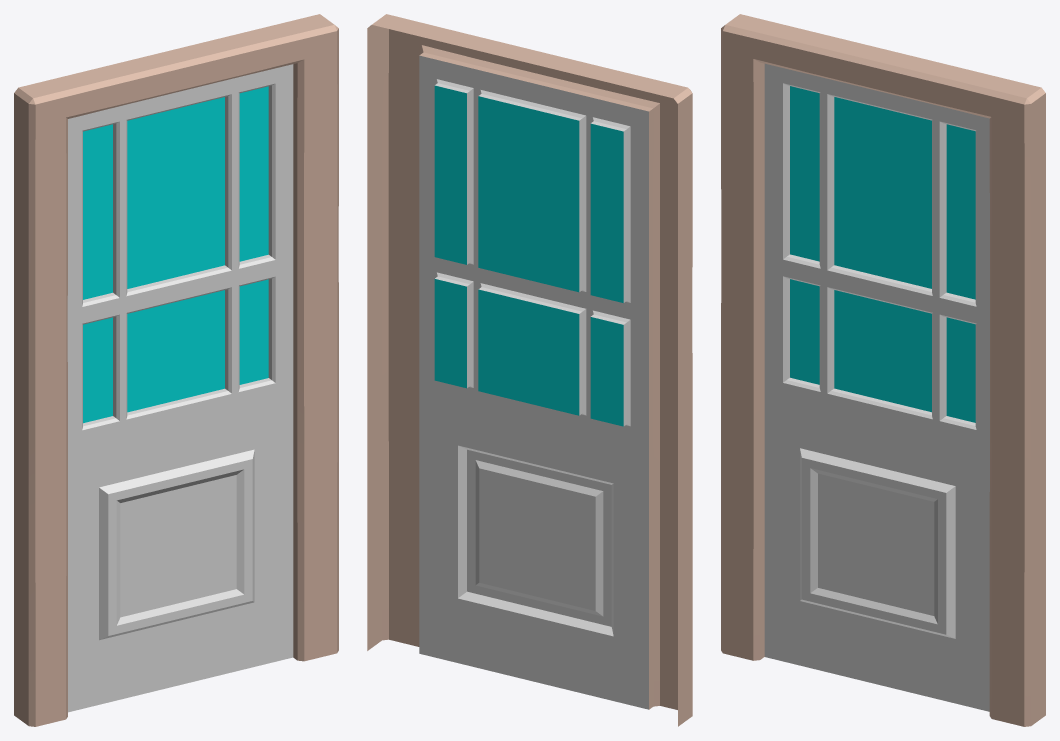
File: Puerta_04.fbx
3 renders of one model, left to right at view 1: azimuth 30°, elevation 25°; view 2: azimuth 150°, elevation 25°; view 3: azimuth 330°, elevation 25°, orthographic.
Parts seen in each view (by area): view 1: polySurface147; view 2: polySurface147; view 3: polySurface147.
Part boxes in pixels (x1,y1,x2,y2): polySurface147: (14,14,338,726); polySurface147: (367,14,692,726); polySurface147: (721,14,1045,726).
Size of the model in its own units: 222 by 428 by 21.27.
